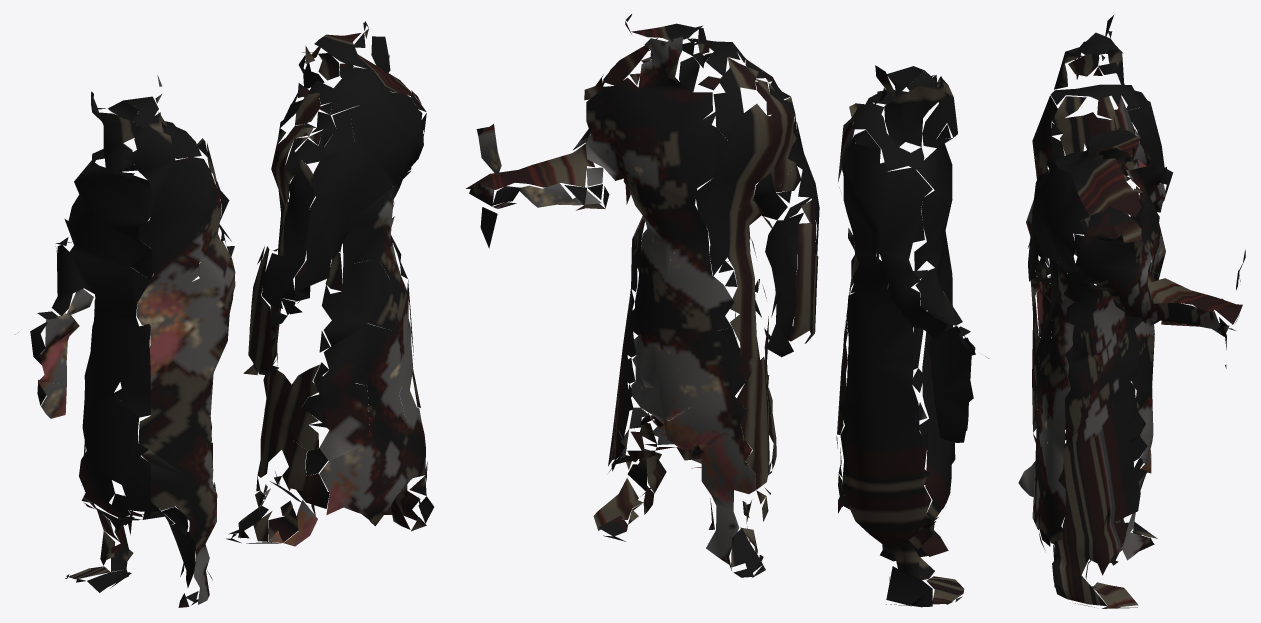
3 renders of one model, left to right at view 1: azimuth 30°, elevation 25°; view 2: azimuth 150°, elevation 25°; view 3: azimuth 270°, elevation 25°, orthographic. The views are drawn at different scales.
Visible parts, largest first — view 1: body.002; view 2: body.002; view 3: body.002.
Part boxes in pixels (bbox=[...]): body.002: bbox=[15, 21, 433, 607]; body.002: bbox=[466, 14, 989, 607]; body.002: bbox=[1018, 15, 1245, 608].
Size of the model in its own units: 1.85 by 1.99 by 0.8967.
1 material, 1 textured.
